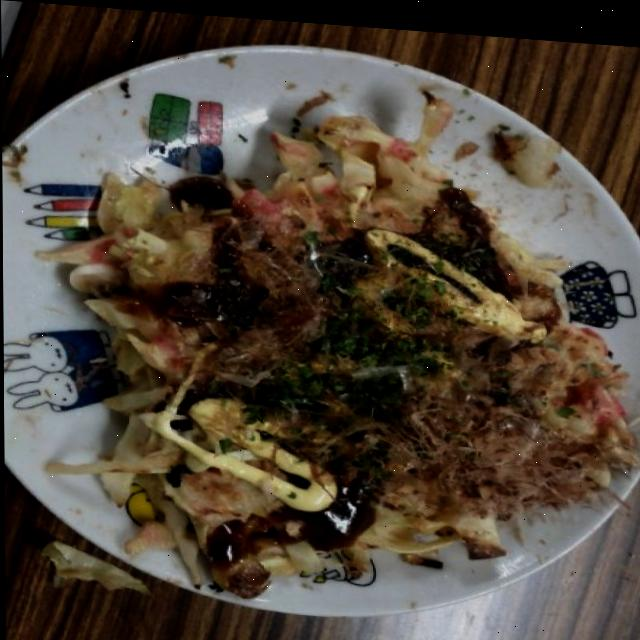蛋糕甜品: (0, 26, 640, 636)
